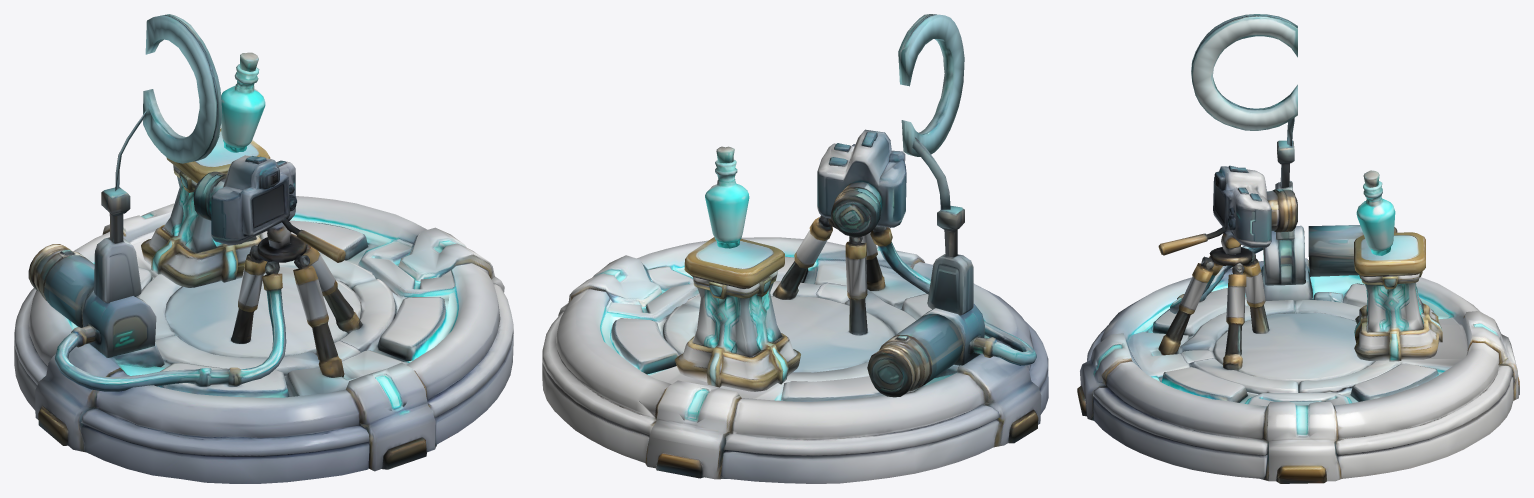
The model's file is maquina-ugc.glb.
3 renders of one model, left to right at view 1: azimuth 30°, elevation 25°; view 2: azimuth 150°, elevation 25°; view 3: azimuth 270°, elevation 25°, orthographic. The views are drawn at different scales.
Visible parts, largest first — view 1: tripo_node_5b78923a-4cb0-4420-9e7b-a8e312f56299; view 2: tripo_node_5b78923a-4cb0-4420-9e7b-a8e312f56299; view 3: tripo_node_5b78923a-4cb0-4420-9e7b-a8e312f56299.
Part boxes in pixels (x1=…): tripo_node_5b78923a-4cb0-4420-9e7b-a8e312f56299: x1=14, y1=14, x2=513, y2=483; tripo_node_5b78923a-4cb0-4420-9e7b-a8e312f56299: x1=542, y1=14, x2=1048, y2=483; tripo_node_5b78923a-4cb0-4420-9e7b-a8e312f56299: x1=1077, y1=14, x2=1519, y2=483.
Bounding box in the file's own units: 0.4765 × 0.4 × 0.4709.
1 material, 1 textured.
